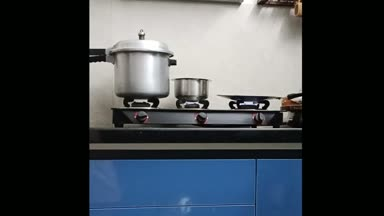flame_gas_off: (125, 97, 157, 122)
flame_gas_on: (235, 101, 269, 125), (179, 99, 209, 126)
